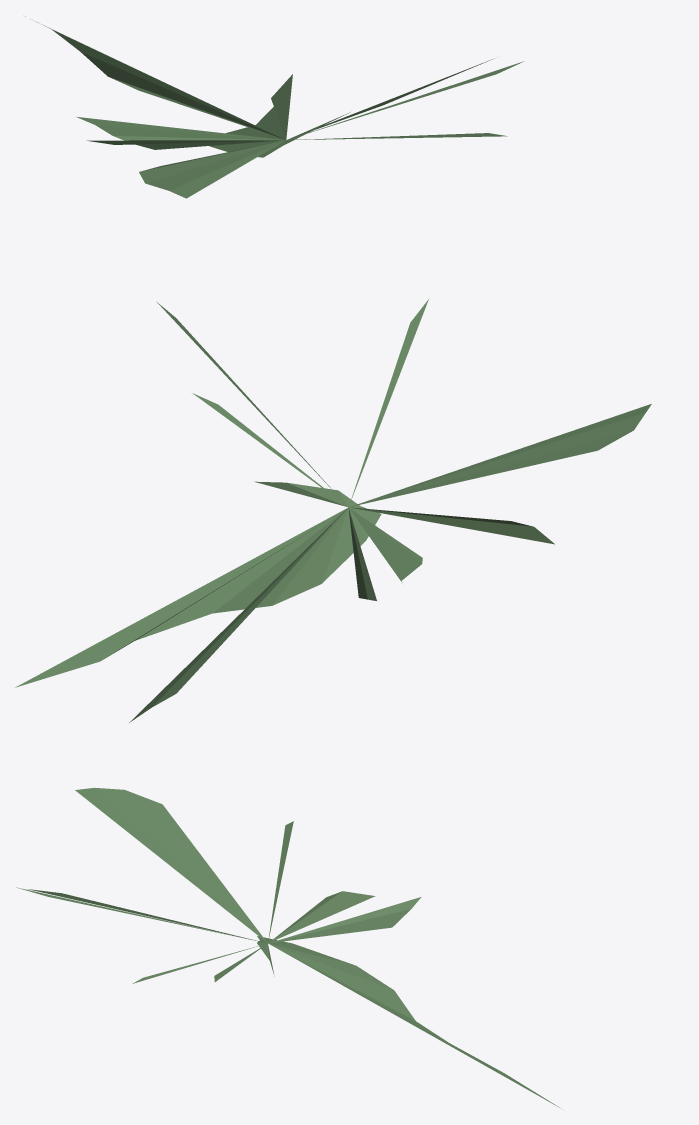
The model's file is c_1672_17834_forest.glb.
3 views of the same model, one above another, from view 1: azimuth 30°, elevation 25°; view 2: azimuth 150°, elevation 25°; view 3: azimuth 270°, elevation 25° (orthographic). The views are drawn at different scales.
Parts seen in each view (by area): view 1: geometry_0; view 2: geometry_0; view 3: geometry_0.
Boxes of the visible parts, x1=… form: geometry_0: x1=25, y1=16, x2=524, y2=198; geometry_0: x1=15, y1=299, x2=651, y2=722; geometry_0: x1=16, y1=787, x2=562, y2=1109.
Bounding box in the file's own units: 363 × 147 × 463.
